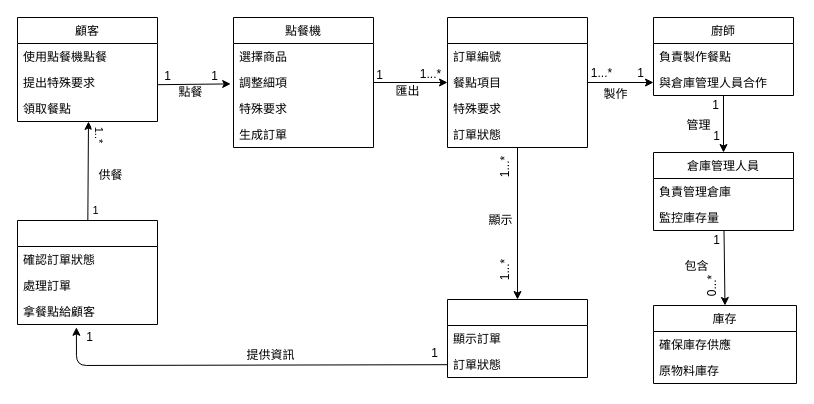
The diagram is 814 pixels wide and 404 high, and some of its shapes have lost their labels. Here are the shapes that lost their labels. From the top down, the box of each, then its label:
(446, 16, 588, 148): 訂單
(16, 220, 158, 324): 員工
(446, 298, 588, 378): 螢幕畫面
